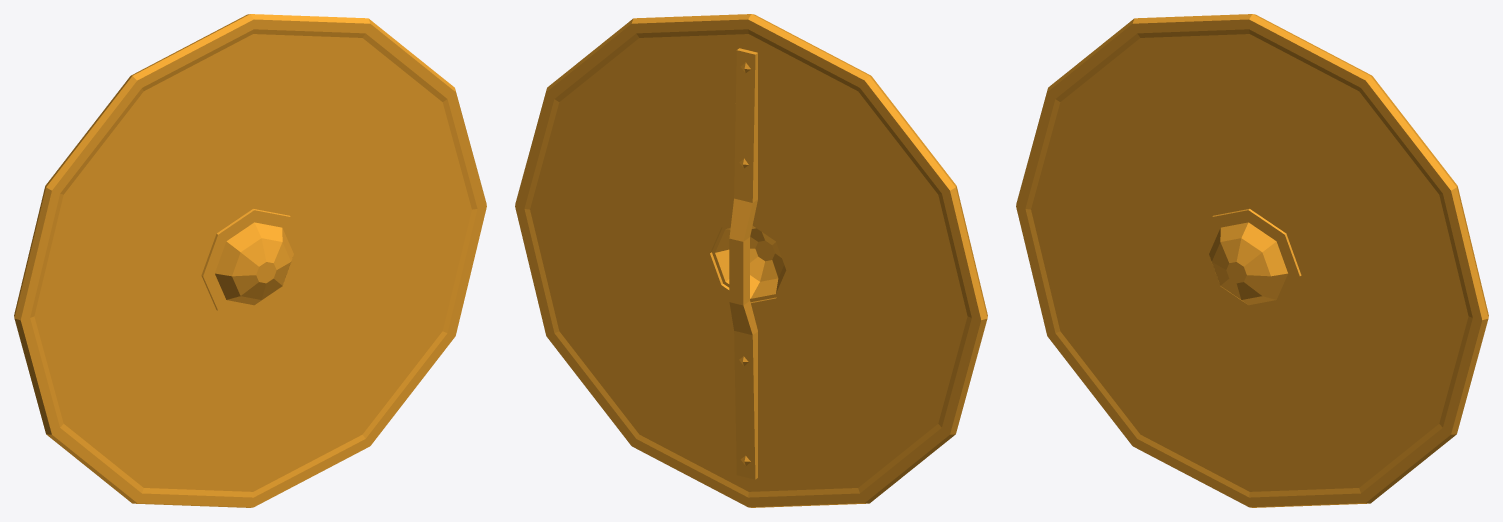
File: SM_Shield_Round_C.fbx
The picture shows the model from 3 angles, left to right: view 1: azimuth 30°, elevation 25°; view 2: azimuth 150°, elevation 25°; view 3: azimuth 330°, elevation 25°; orthographic projection.
Visible parts, largest first — view 1: shield-round-c; view 2: shield-round-c; view 3: shield-round-c.
Part boxes in pixels (box(x1,y1,x2,y2)): shield-round-c: box(14, 14, 486, 507); shield-round-c: box(515, 14, 987, 507); shield-round-c: box(1016, 14, 1488, 507).
Size of the model in its own units: 1.01 by 1.01 by 0.1152.
